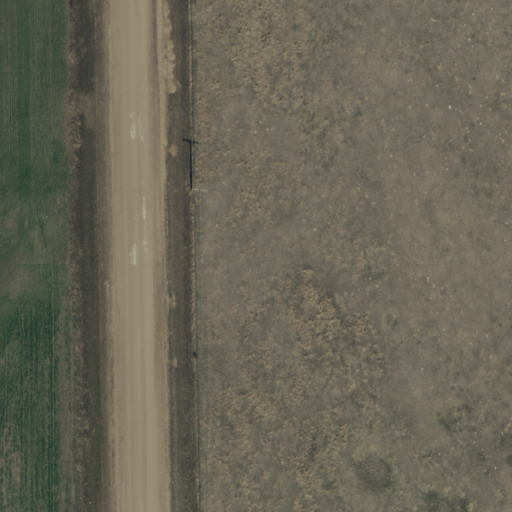DT: (184, 180, 214, 199)
